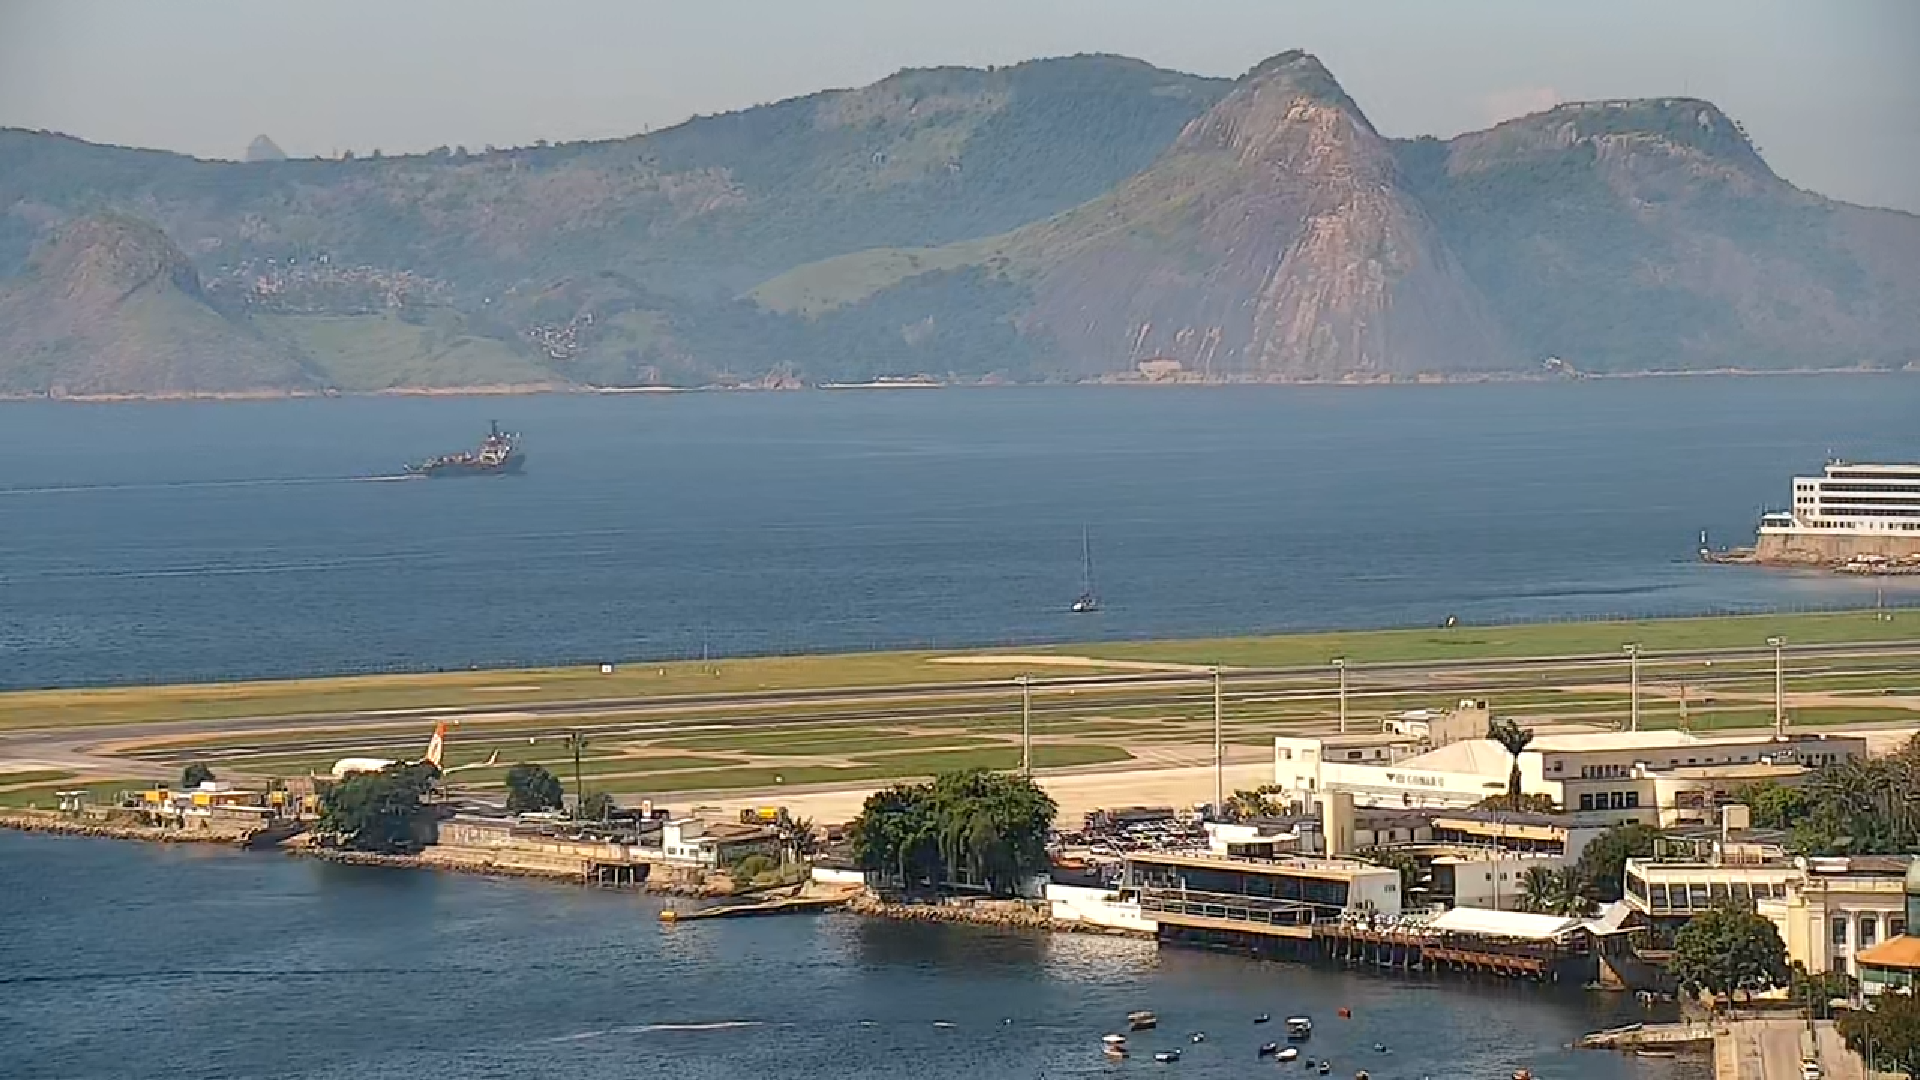Ship3: (1063, 524, 1105, 617)
Ship5: (415, 421, 529, 483)
Ship7: (1283, 1013, 1315, 1043)
